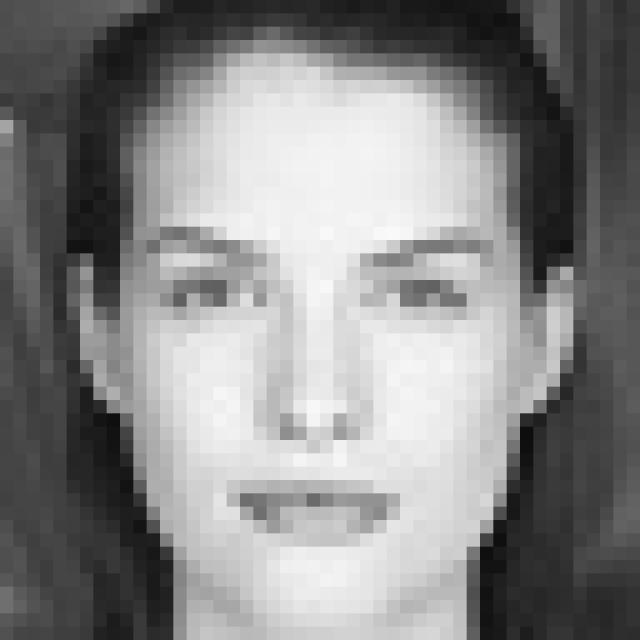neutral: (134, 214, 502, 556)
